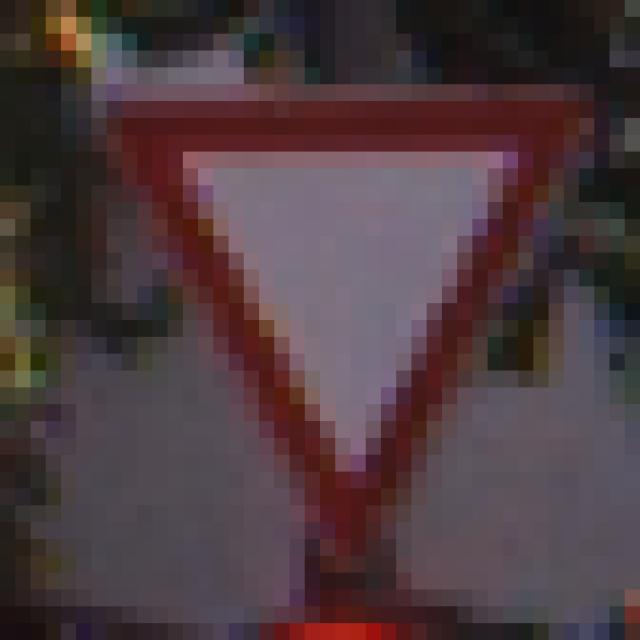Give Way: (77, 85, 565, 557)
